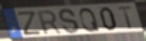0: (99, 6, 119, 32)
Q: (78, 7, 101, 33)
R: (36, 10, 63, 36)
S: (58, 7, 82, 35)
T: (116, 5, 134, 30)
Z: (16, 10, 43, 37)
